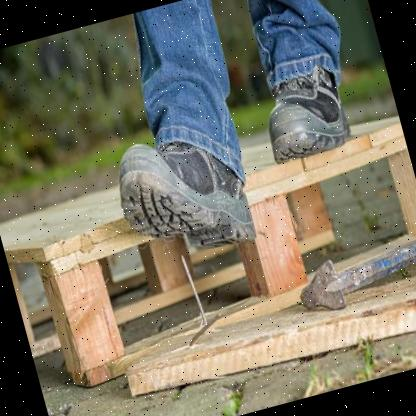bota: (104, 116, 262, 274), (251, 58, 357, 167)
